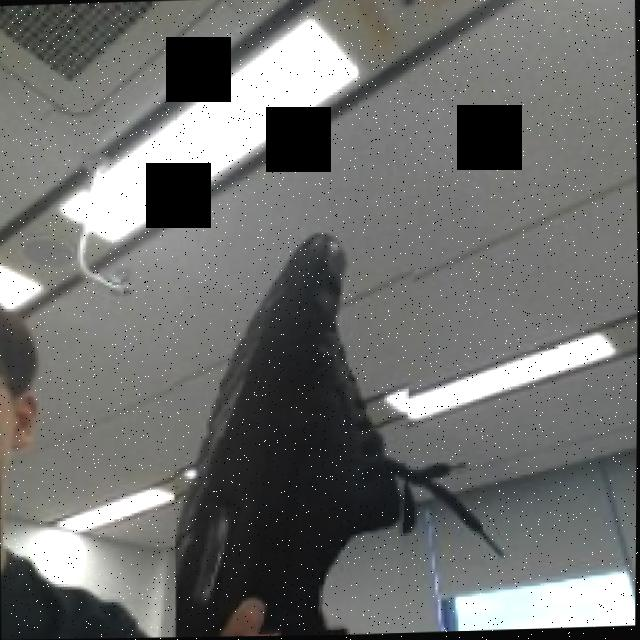shoe: (169, 230, 423, 638)
